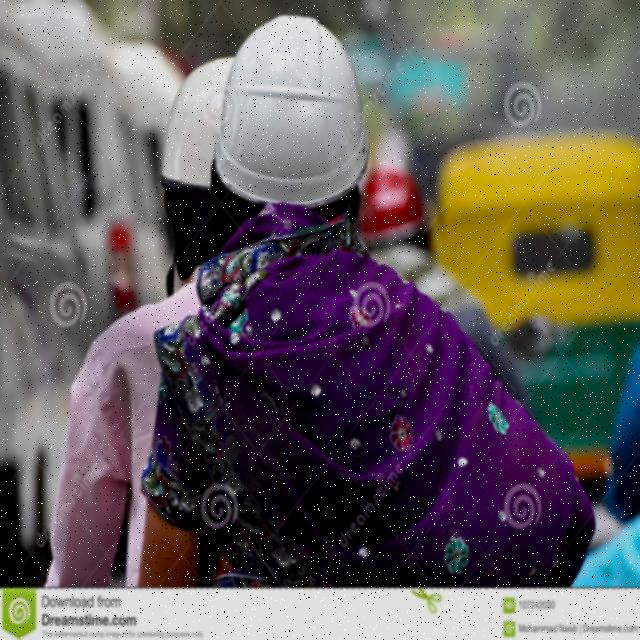not_triplets: (34, 30, 591, 589)
with-helmet: (219, 10, 372, 236)
